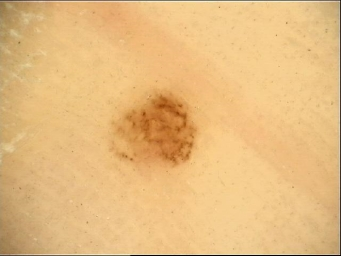nevus: (113, 96, 197, 167)
